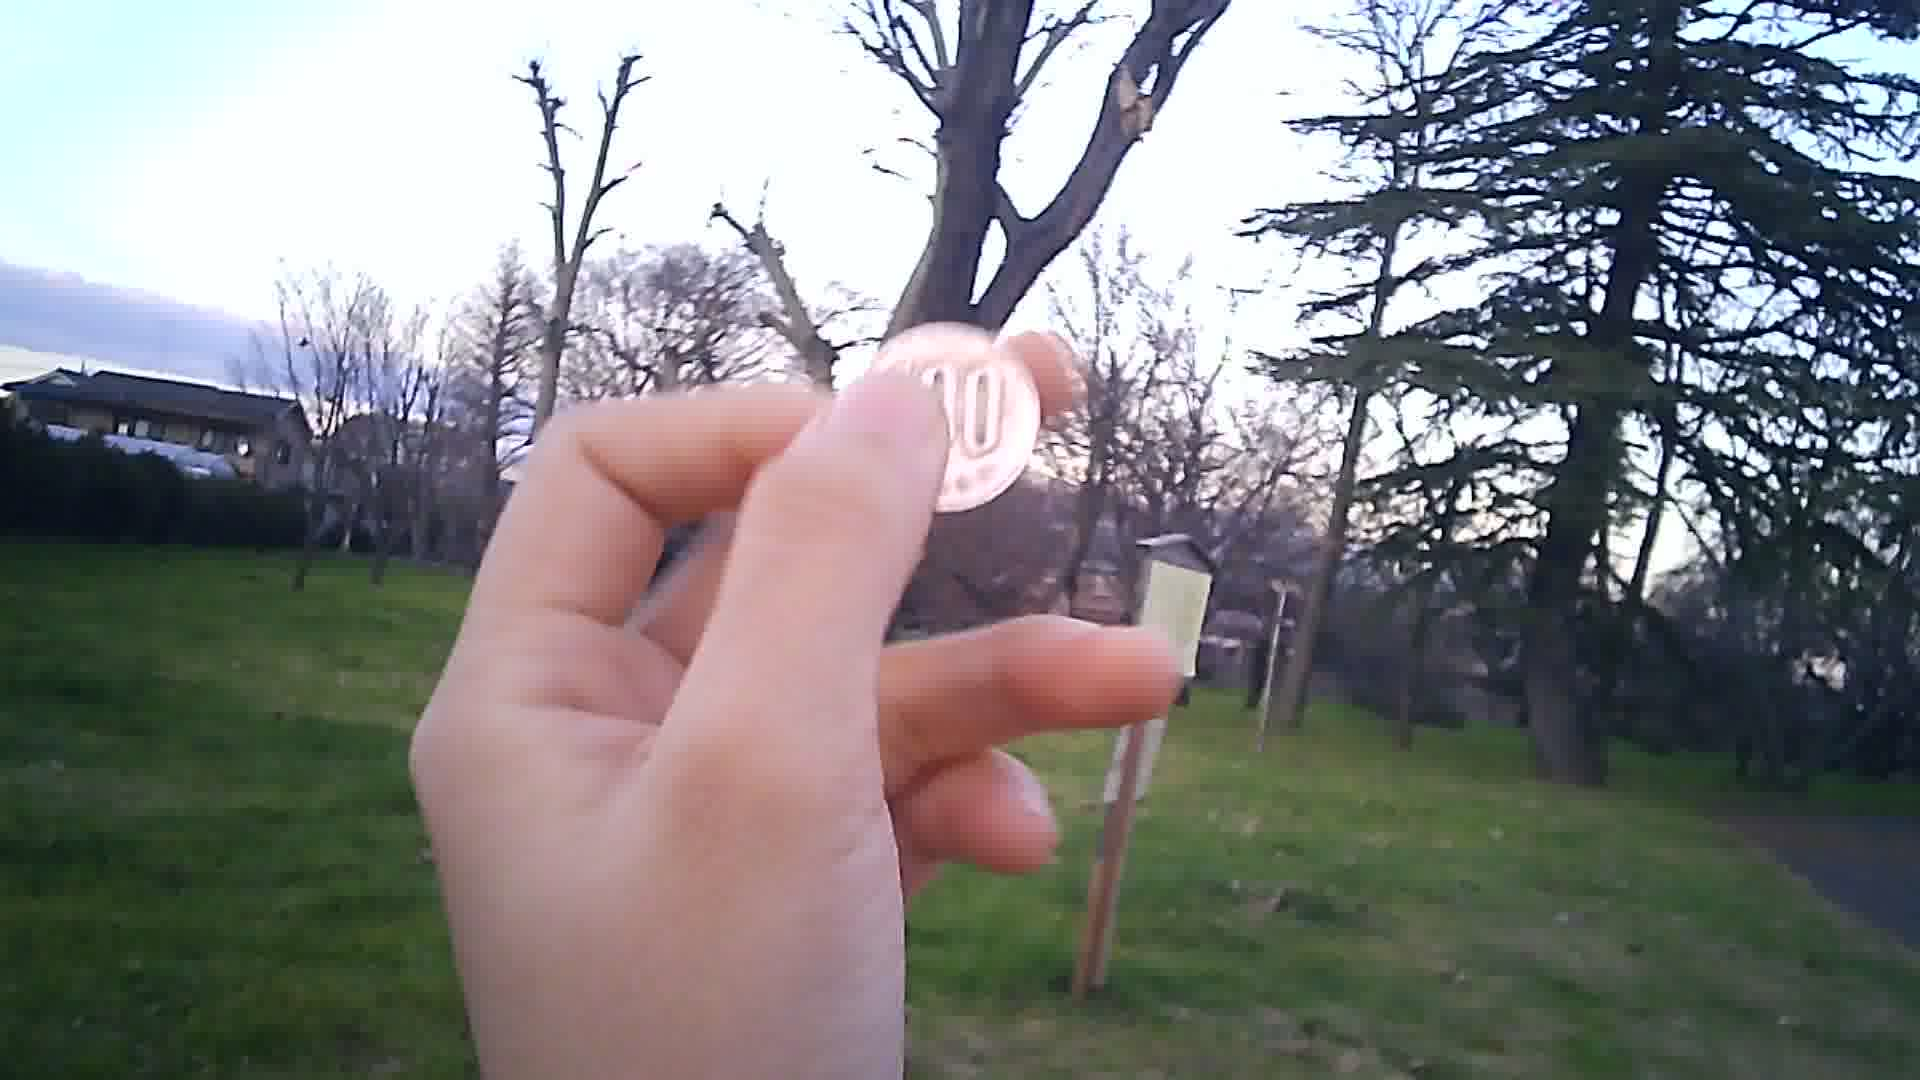100 Yen: (860, 320, 1038, 506)
